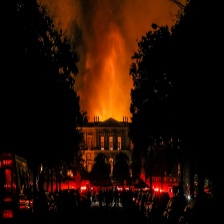smoke: (72, 2, 150, 107)
